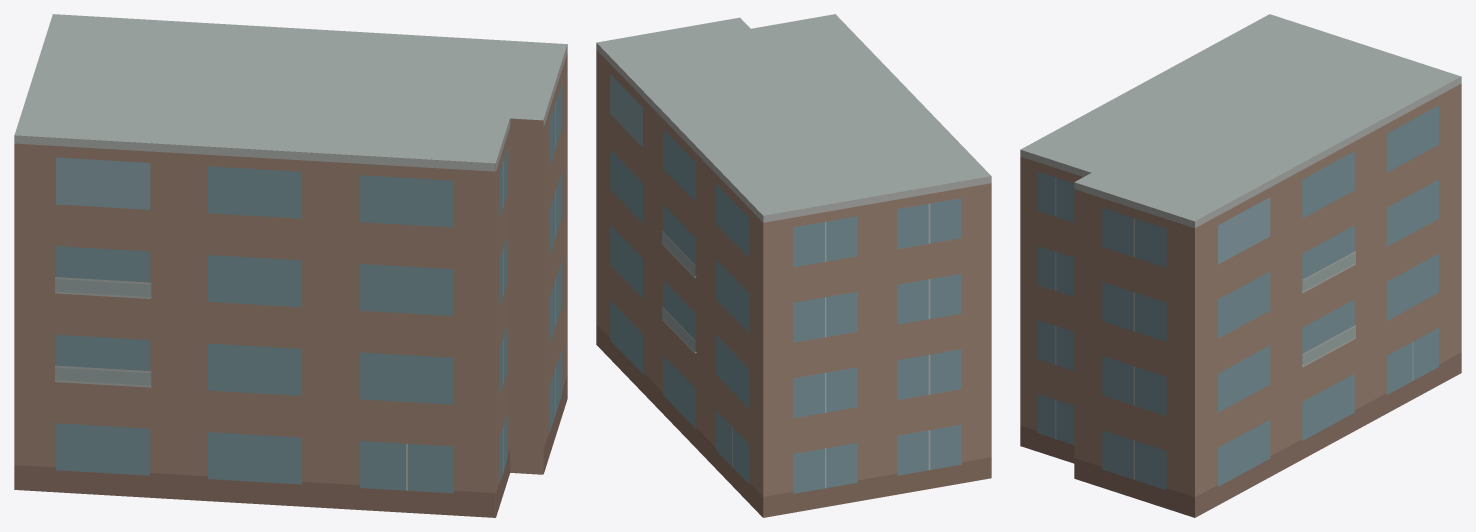
File: survey-upis-32739719.glb
3 views of the same model, side by side, from view 1: azimuth 30°, elevation 25°; view 2: azimuth 150°, elevation 25°; view 3: azimuth 270°, elevation 25° (orthographic). The views are drawn at different scales.
Visible parts, largest first — view 1: survey-upis-32739719.tmp; view 2: survey-upis-32739719.tmp; view 3: survey-upis-32739719.tmp.
Part boxes in pixels (<box>): survey-upis-32739719.tmp: <box>14,14,567,517</box>; survey-upis-32739719.tmp: <box>596,14,991,517</box>; survey-upis-32739719.tmp: <box>1020,14,1461,517</box>.
Size of the model in its own units: 15.85 by 10.55 by 14.24.
